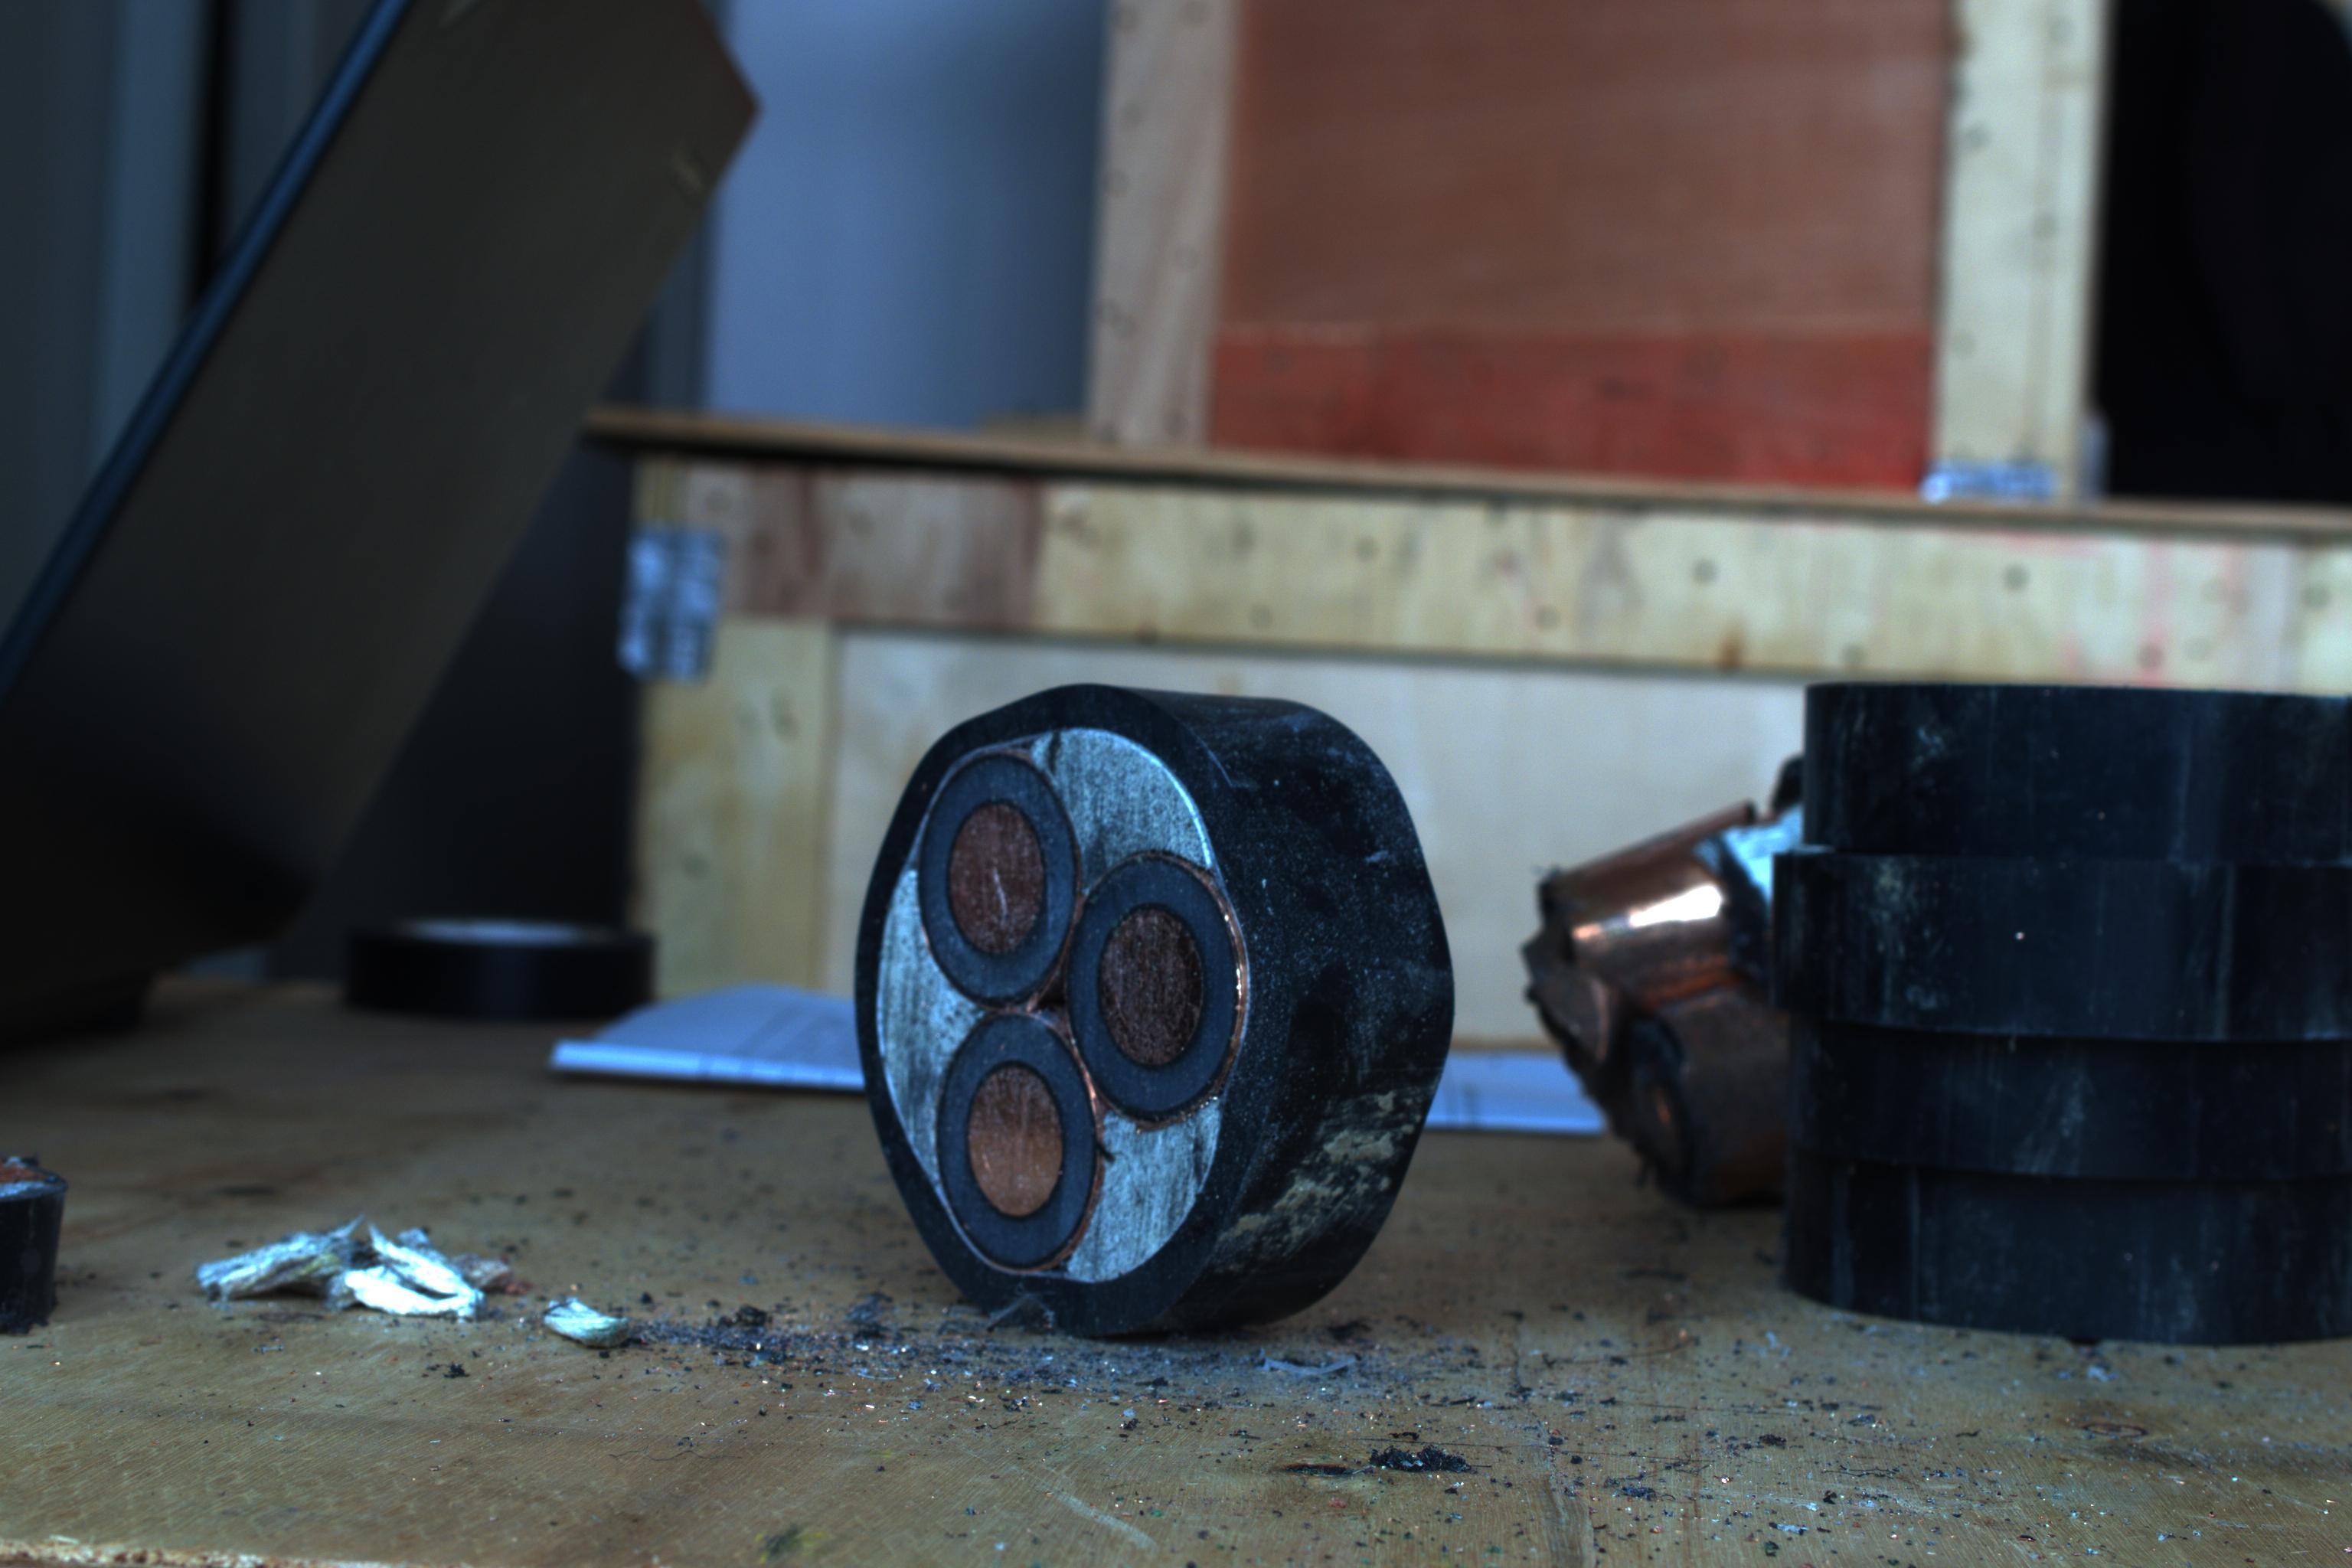ZA_YJV_8.7_10kV_3x240: (852, 684, 1274, 1300)
